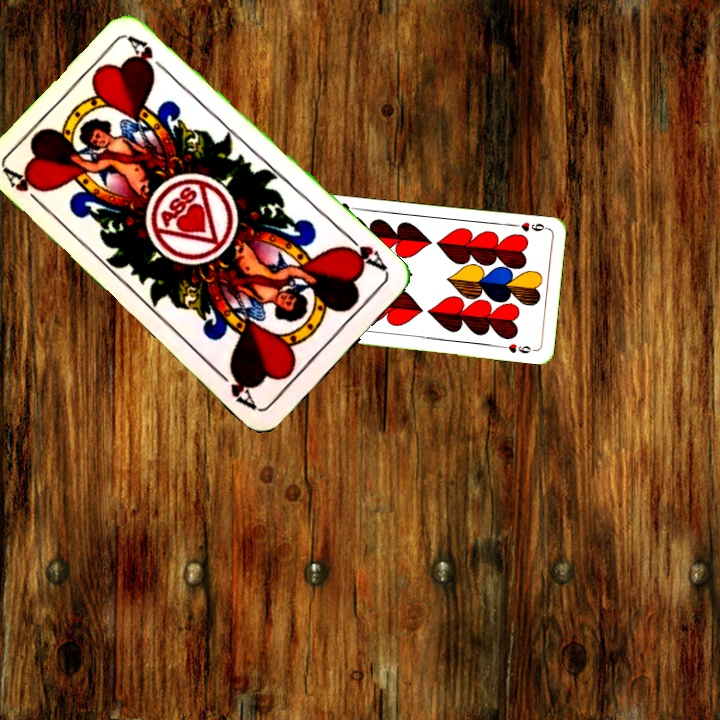H9: (510, 218, 550, 234)
HA: (338, 230, 390, 275), (1, 165, 49, 212)
